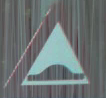Speed Breaker ahead: (6, 8, 95, 88)
